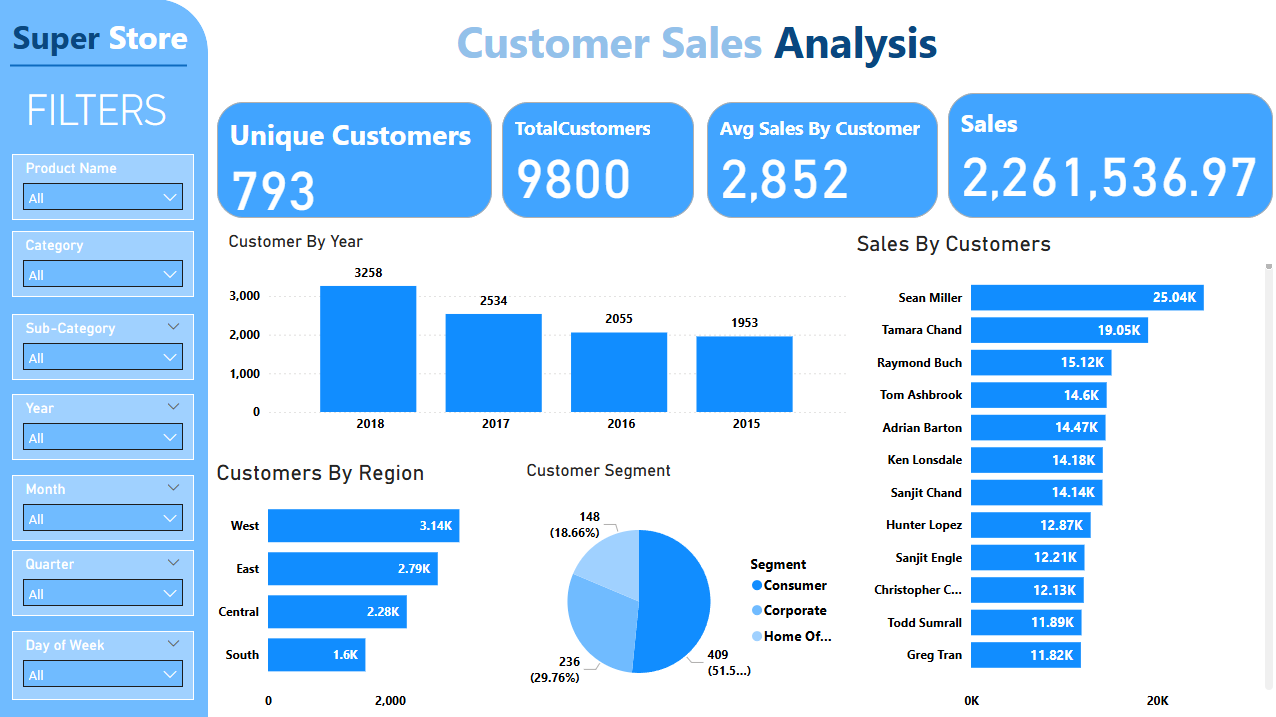

The dashboard page shown, as its layout file describes it:
{"tool":"powerbi","page":{"name":"Customer","canvas":[1280,720],"ordinal":0},"visuals":[{"type":"shape","box":[0,0,210,720],"z":0},{"type":"cardVisual","fields":{"Data":["FactTable.TotalCustomer"]},"box":[214,98,285,126],"z":1000},{"type":"textbox","box":[454,8,532,90],"z":2000},{"type":"cardVisual","fields":{"Data":["FactTable.TotalSales","FactTable.TotalSales"]},"box":[945,89,335,135],"z":3000},{"type":"barChart","title":"Sales By Customers","fields":{"Category":["DimCustomer.Customer Name"],"Y":["FactTable.TotalSales"]},"box":[854,232,426,488],"z":4000},{"type":"pieChart","title":"Customer Segment","fields":{"Category":["DimCustomer.Segment"],"Y":["CountNonNull(DimCustomer.CustomerSK)"]},"box":[524,461,330,259],"z":5000},{"type":"barChart","title":"Customers By Region","fields":{"Category":["DimAddress.Region"],"Y":["CountNonNull(FactTable.CustomerSK)"]},"box":[214,461,310,259],"z":6000},{"type":"columnChart","title":"Customer By Year","fields":{"Y":["CountNonNull(FactTable.CustomerSK)"],"Category":["DimDate.Year"]},"box":[226,232,628,211],"z":7000},{"type":"cardVisual","fields":{"Data":["FactTable.TotalCustomers"]},"box":[499,98,202,126],"z":8000},{"type":"cardVisual","fields":{"Data":["FactTable.AverageSalesperCustomer"]},"box":[704,98,241,126],"z":9000},{"type":"slicer","fields":{"Values":["DimProduct.Category"]},"box":[14,232,182,66],"z":9001},{"type":"slicer","fields":{"Values":["DimDate.Month"]},"box":[14,476,182,66],"z":9002},{"type":"slicer","fields":{"Values":["DimDate.Quarter"]},"box":[14,551,182,66],"z":9003},{"type":"slicer","fields":{"Values":["DimDate.Day of Week"]},"box":[14,632,182,69],"z":9004},{"type":"slicer","fields":{"Values":["DimProduct.Product Name"]},"box":[14,155,182,66],"z":9005},{"type":"slicer","fields":{"Values":["DimProduct.Sub-Category"]},"box":[14,315,182,66],"z":9006},{"type":"slicer","fields":{"Values":["DimDate.Year"]},"box":[14,395,182,66],"z":9007},{"type":"shape","box":[12,44,177,45],"z":9008},{"type":"textbox","box":[12,81,177,60],"z":9009},{"type":"textbox","box":[10,10,226,67],"z":9010}]}

Visuals, with their boxes in screenshot pixels (x1, y1, x2, y2), scaled from the page's 1280x720 canvas onto the 1276x717 screenshot:
shape: locate(0, 0, 209, 716)
cardVisual - FactTable.TotalCustomer: locate(213, 98, 497, 223)
textbox: locate(453, 8, 983, 98)
cardVisual - FactTable.TotalSales x FactTable.TotalSales: locate(942, 89, 1275, 223)
"Sales By Customers" barChart: locate(851, 231, 1275, 716)
"Customer Segment" pieChart: locate(522, 459, 851, 716)
"Customers By Region" barChart: locate(213, 459, 522, 716)
"Customer By Year" columnChart: locate(225, 231, 851, 441)
cardVisual - FactTable.TotalCustomers: locate(497, 98, 699, 223)
cardVisual - FactTable.AverageSalesperCustomer: locate(702, 98, 942, 223)
slicer - DimProduct.Category: locate(14, 231, 195, 297)
slicer - DimDate.Month: locate(14, 474, 195, 540)
slicer - DimDate.Quarter: locate(14, 549, 195, 614)
slicer - DimDate.Day of Week: locate(14, 629, 195, 698)
slicer - DimProduct.Product Name: locate(14, 154, 195, 220)
slicer - DimProduct.Sub-Category: locate(14, 314, 195, 379)
slicer - DimDate.Year: locate(14, 393, 195, 459)
shape: locate(12, 44, 188, 89)
textbox: locate(12, 81, 188, 140)
textbox: locate(10, 10, 235, 77)
